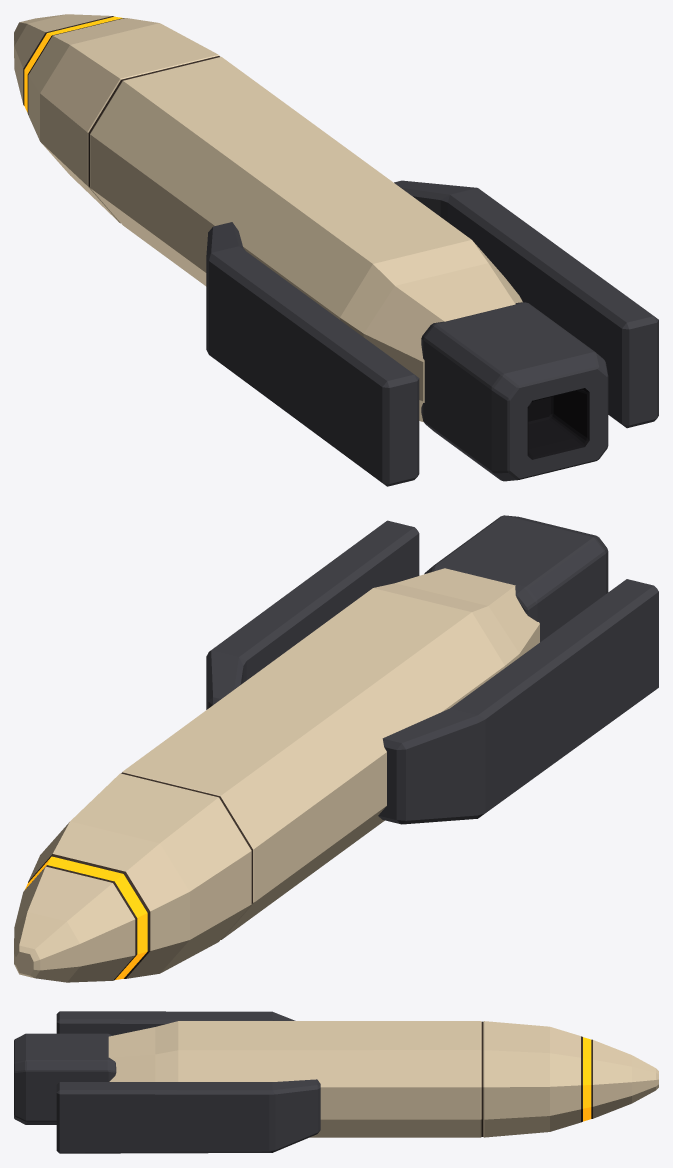
The model's file is Skiff.fbx.
3 renders of one model, top to bottom at view 1: azimuth 30°, elevation 25°; view 2: azimuth 150°, elevation 25°; view 3: azimuth 270°, elevation 25°, orthographic. The views are drawn at different scales.
Parts seen in each view (by area): view 1: Skiff • hull, Skiff • port fin, Skiff • square exhaust, Skiff • starboard fin; view 2: Skiff • hull, Skiff • port fin, Skiff • starboard fin, Skiff • square exhaust; view 3: Skiff • hull, Skiff • starboard fin, Skiff • square exhaust, Skiff • port fin.
Boxes of the visible parts, left/top/right/bottom form: Skiff • hull: left=14, top=14, right=522, bottom=422; Skiff • port fin: left=206, top=222, right=419, bottom=486; Skiff • square exhaust: left=421, top=302, right=608, bottom=481; Skiff • starboard fin: left=394, top=180, right=658, bottom=428; Skiff • hull: left=14, top=568, right=539, bottom=982; Skiff • port fin: left=378, top=579, right=658, bottom=824; Skiff • starboard fin: left=206, top=520, right=419, bottom=709; Skiff • square exhaust: left=424, top=515, right=608, bottom=642; Skiff • hull: left=108, top=1021, right=658, bottom=1137; Skiff • starboard fin: left=56, top=1079, right=320, bottom=1153; Skiff • square exhaust: left=14, top=1033, right=116, bottom=1124; Skiff • port fin: left=56, top=1011, right=295, bottom=1035.
Bounding box in the file's own units: 150 × 74.8 × 500.
